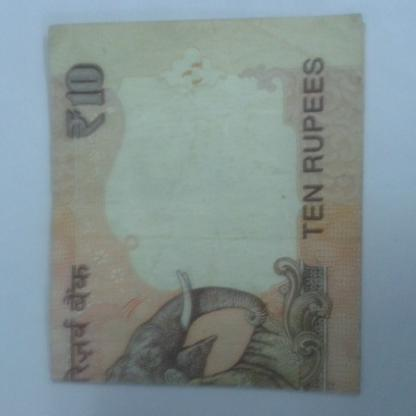Old10Back: (44, 10, 368, 399)
